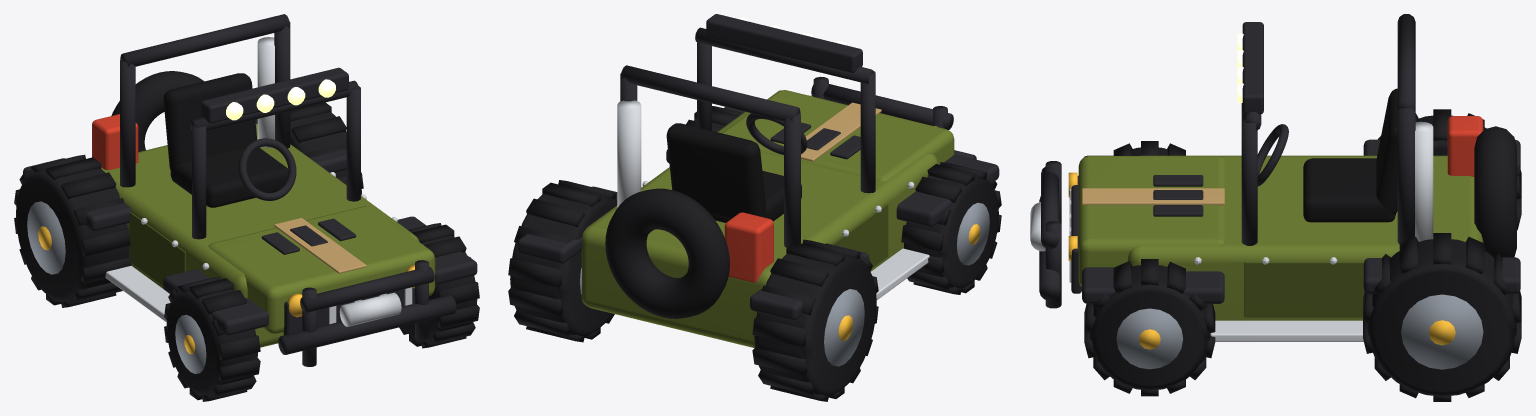
File: jeep-kart.glb
The picture shows the model from 3 angles, left to right: view 1: azimuth 30°, elevation 25°; view 2: azimuth 150°, elevation 25°; view 3: azimuth 270°, elevation 25°; orthographic projection. The views are drawn at different scales.
Parts seen in each view (by area): view 1: kart-body, wheel-back-left, wheel-front-left, wheel-front-right, wheel-back-right; view 2: kart-body, wheel-back-left, wheel-back-right, wheel-front-left, wheel-front-right; view 3: kart-body, wheel-back-right, wheel-front-right, wheel-back-left, wheel-front-left.
Part boxes in pixels (x1,y1,x2,y2): kart-body: (23,14,477,366); wheel-back-left: (14,154,131,307); wheel-front-left: (164,277,260,401); wheel-front-right: (399,223,479,348); wheel-back-right: (255,102,363,194); kart-body: (517,14,999,347); wheel-back-left: (752,239,878,401); wheel-back-right: (508,180,617,342); wheel-front-left: (901,162,1001,294); wheel-front-right: (686,106,742,131); kart-body: (1030,14,1520,341); wheel-back-right: (1363,233,1521,401); wheel-front-right: (1084,259,1215,396); wheel-back-left: (1378,109,1521,230); wheel-front-left: (1113,141,1185,155).
Size of the model in its own units: 2.06 by 1.67 by 2.75.
